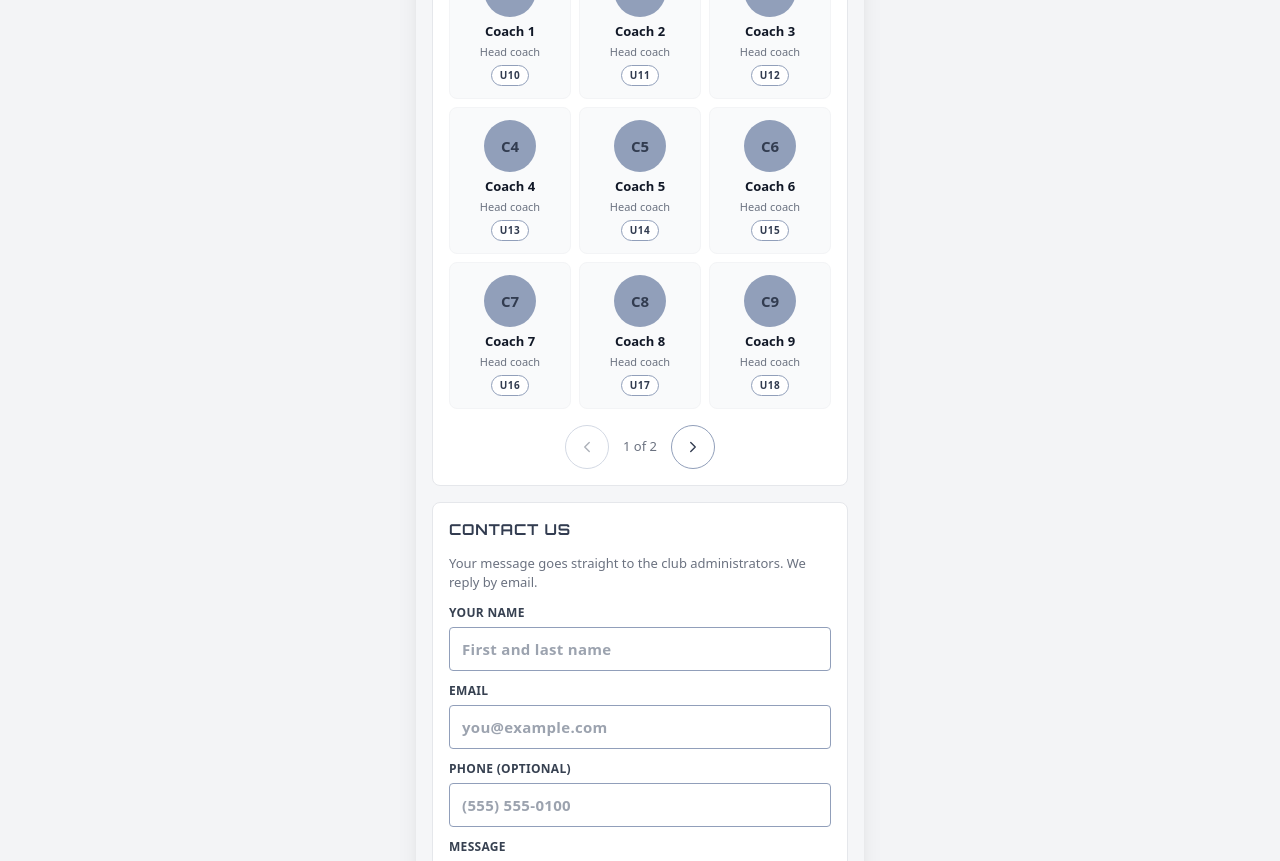
Scenario: ClubLinkPage › renders the club, its links, sponsors, games and the first nine coaches
The width and height of the screenshot is (1280, 861).
(page scrolled)
Expected: the text "1 of 2" is shown, [623, 437, 657, 457]
Click the button named "next coaches". click: (693, 447)
box: [671, 425, 715, 469]
(page scrolled)
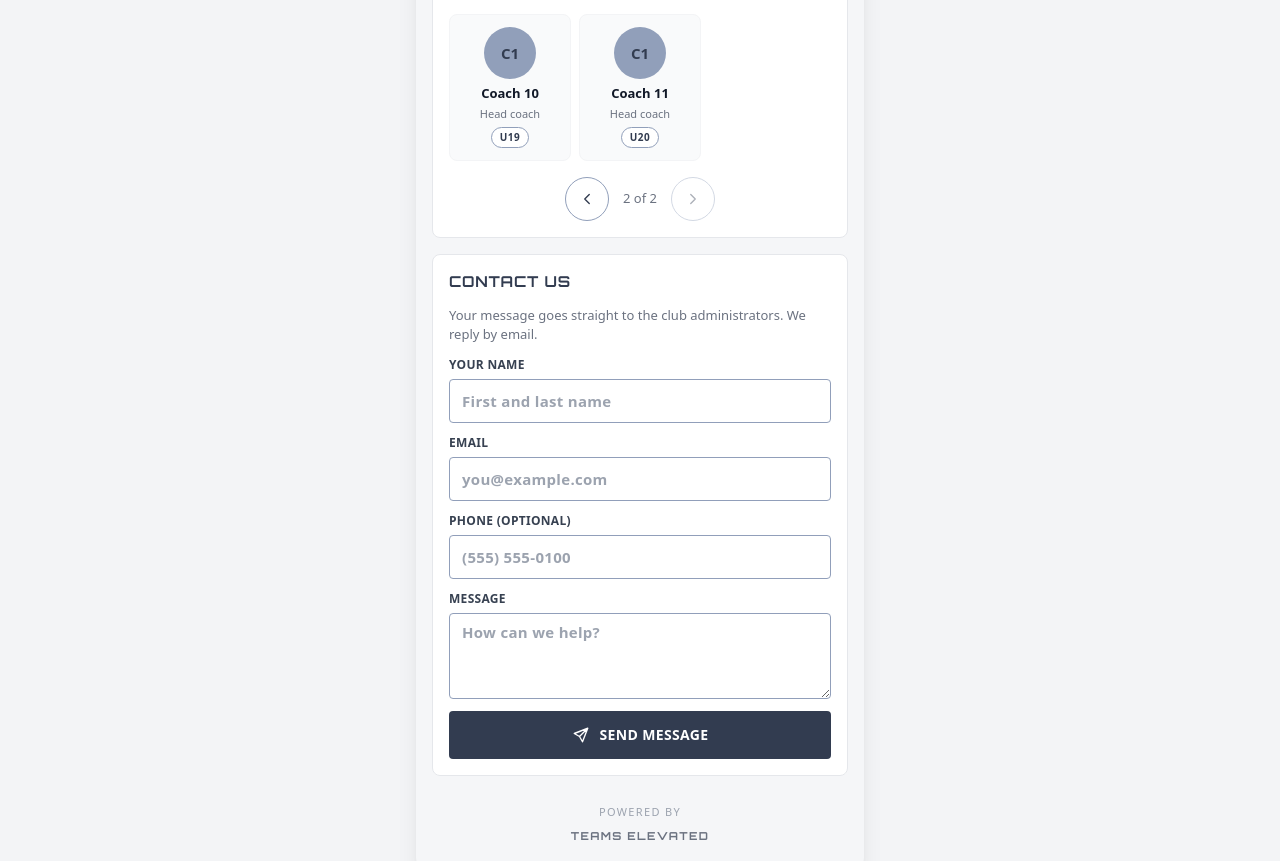
Expected: the text "Coach 11" is shown, [611, 85, 669, 101]
